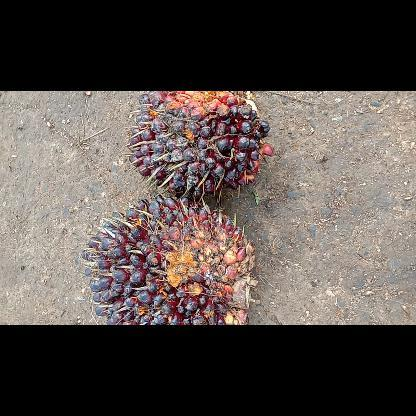Kurang masak: (79, 192, 261, 324), (124, 90, 274, 200)
